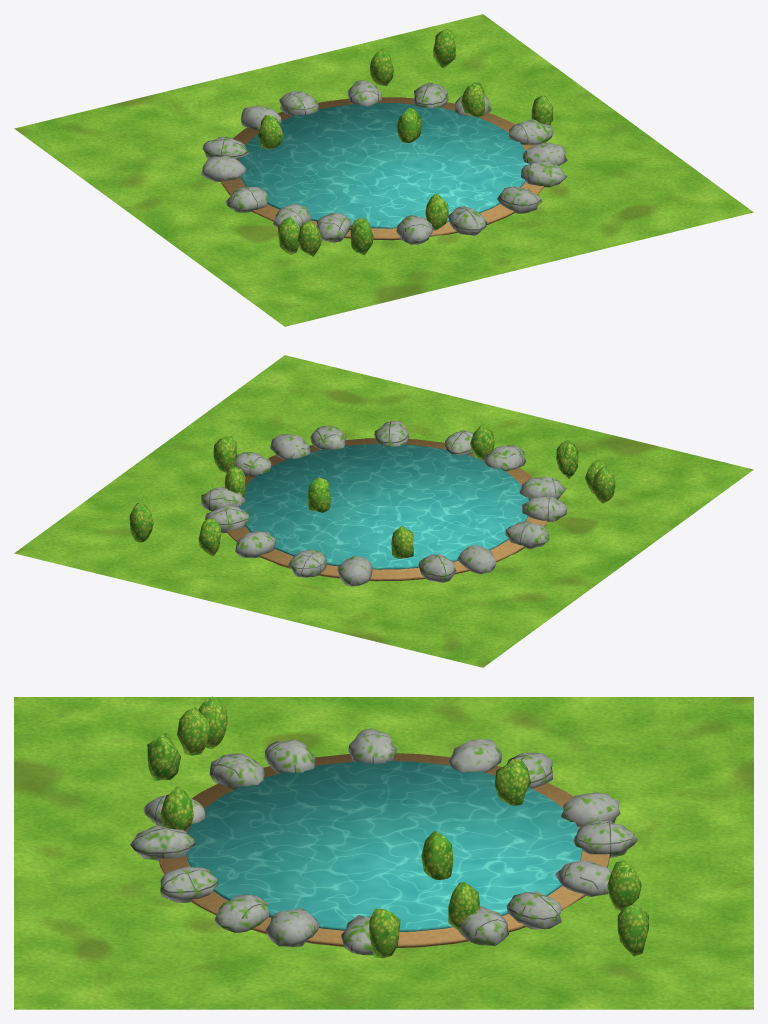
File: pond-small.glb
The picture shows the model from 3 angles, top to bottom: view 1: azimuth 30°, elevation 25°; view 2: azimuth 150°, elevation 25°; view 3: azimuth 270°, elevation 25°; orthographic projection. The views are drawn at different scales.
Visible parts, largest first — view 1: pond-small; view 2: pond-small; view 3: pond-small.
Boxes of the visible parts, x1,y1,x2,y2 form: pond-small: (14, 14, 753, 326); pond-small: (14, 355, 753, 667); pond-small: (14, 696, 753, 1009).
Size of the model in its own units: 8 by 0.6995 by 8.
Materials: 5 (5 with a texture image).
